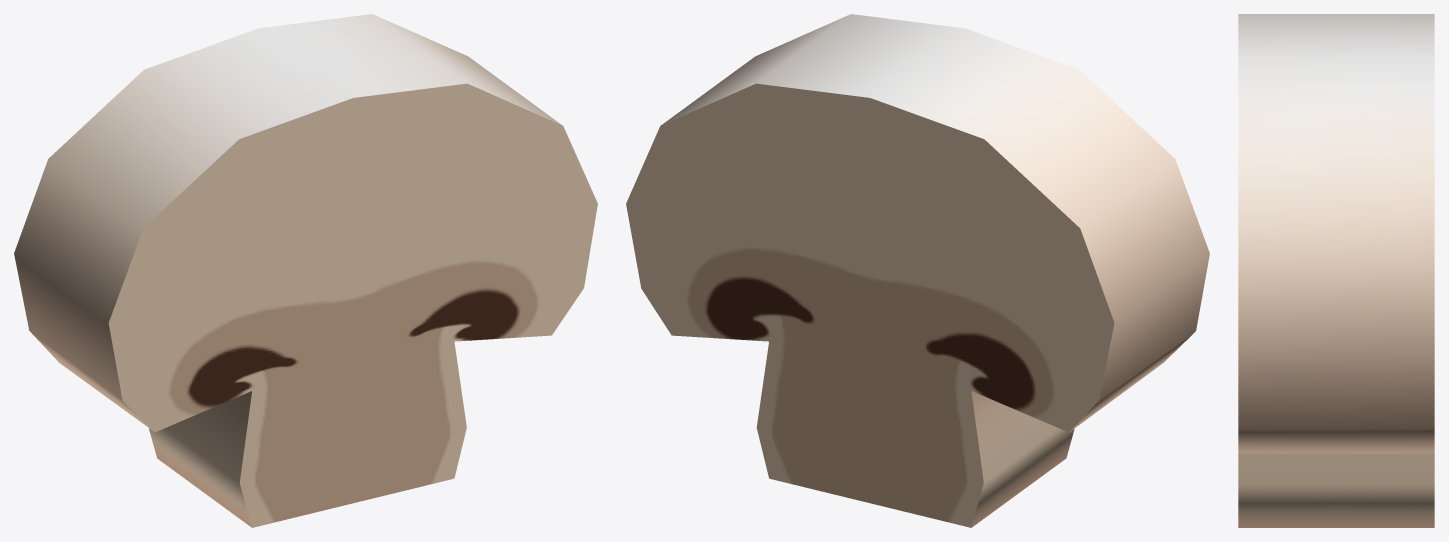
The model's file is Mushroom_White_Slice.fbx.
3 renders of one model, left to right at view 1: azimuth 30°, elevation 25°; view 2: azimuth 150°, elevation 25°; view 3: azimuth 270°, elevation 25°, orthographic. The views are drawn at different scales.
Visible parts, largest first — view 1: Mushroom_White_Slice; view 2: Mushroom_White_Slice; view 3: Mushroom_White_Slice.
Boxes of the visible parts, <box> form: Mushroom_White_Slice: <box>14,14,597,527</box>; Mushroom_White_Slice: <box>626,14,1209,527</box>; Mushroom_White_Slice: <box>1238,14,1434,527</box>.
Size of the model in its own units: 34.11 by 27 by 11.47.
